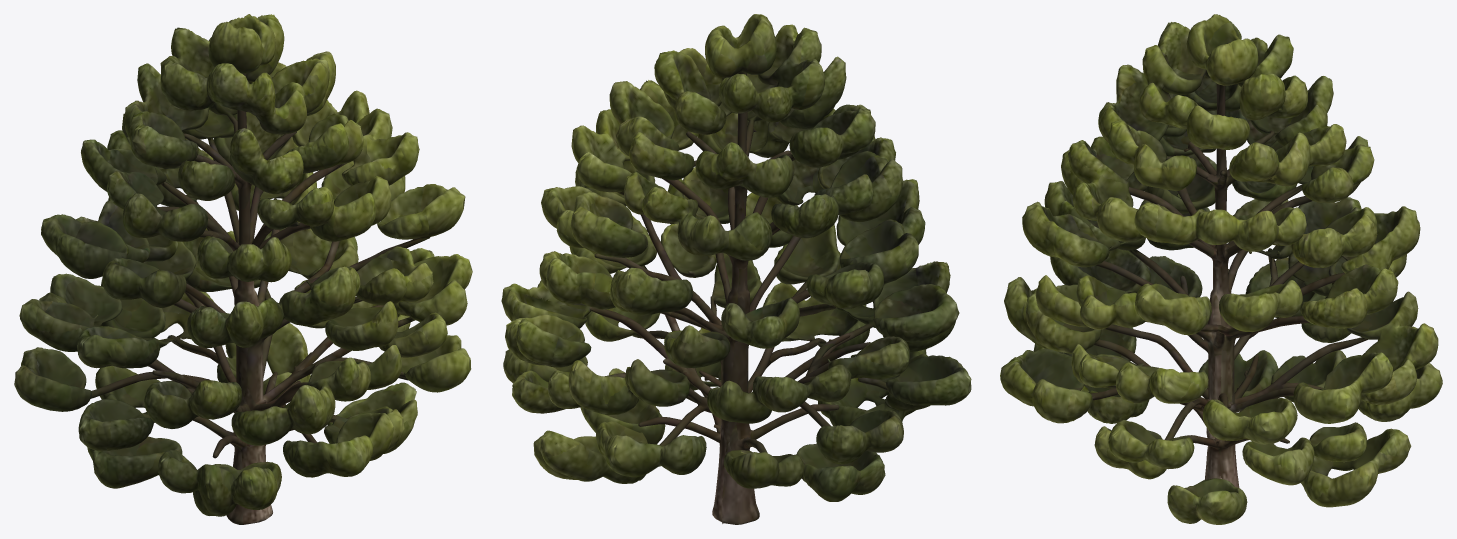
File: pine-tree.glb
3 views of the same model, side by side, from view 1: azimuth 30°, elevation 25°; view 2: azimuth 150°, elevation 25°; view 3: azimuth 270°, elevation 25° (orthographic). The views are drawn at different scales.
Parts seen in each view (by area): view 1: tripo_node_171a0100-7d9f-4271-807e-d2de999ab137; view 2: tripo_node_171a0100-7d9f-4271-807e-d2de999ab137; view 3: tripo_node_171a0100-7d9f-4271-807e-d2de999ab137.
Boxes of the visible parts, x1,y1,x2,y2 form: tripo_node_171a0100-7d9f-4271-807e-d2de999ab137: [14, 14, 472, 524]; tripo_node_171a0100-7d9f-4271-807e-d2de999ab137: [501, 14, 971, 524]; tripo_node_171a0100-7d9f-4271-807e-d2de999ab137: [1000, 14, 1442, 524].
Bounding box in the file's own units: 0.8429 × 0.9843 × 0.811.
1 material, 1 textured.
